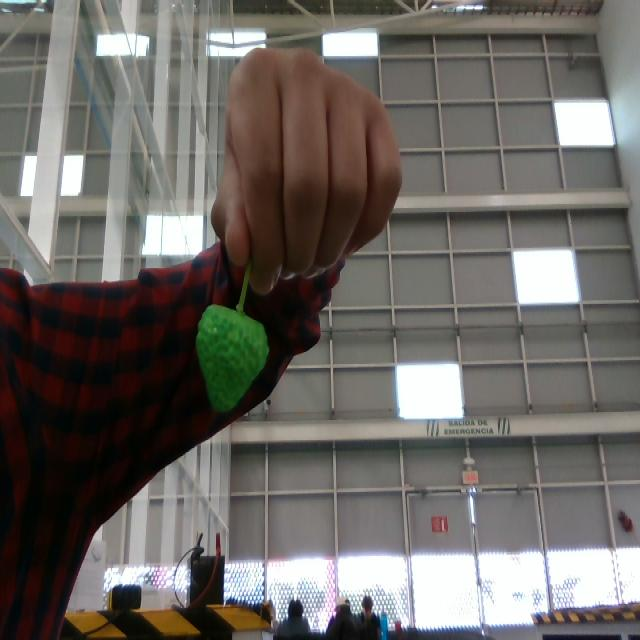verde: (194, 304, 269, 415)
